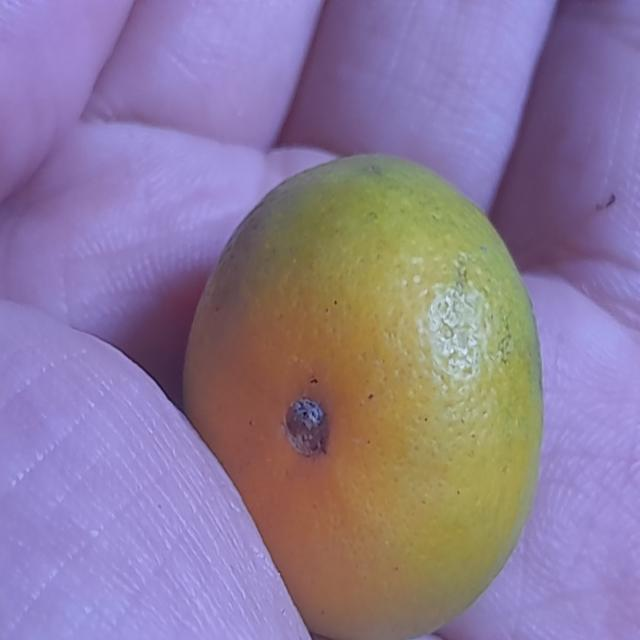greening: (178, 154, 547, 636)
